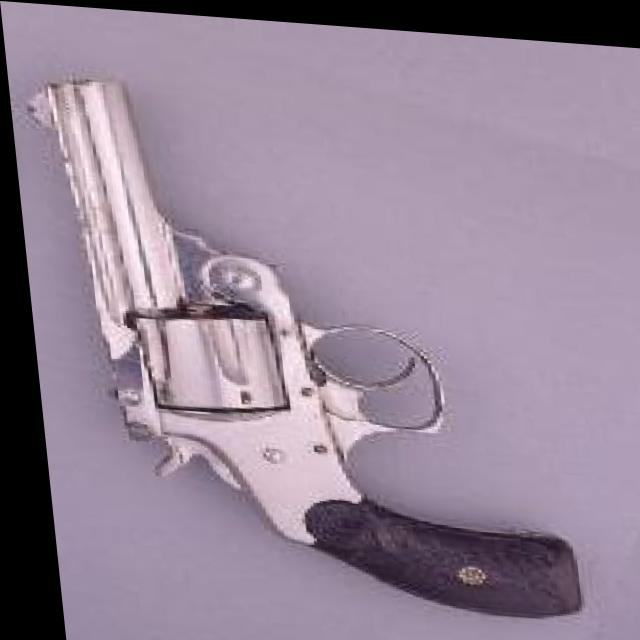handgun: (19, 73, 571, 619)
